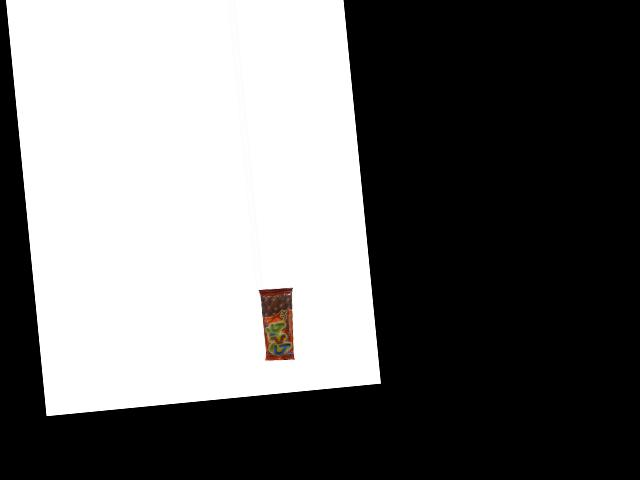chocolate: (258, 286, 298, 362)
